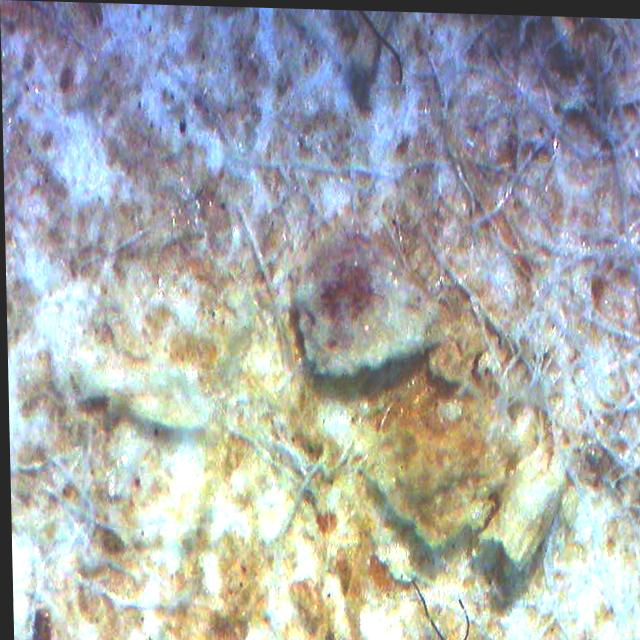microplastic: (410, 579, 445, 640), (456, 596, 466, 640)
